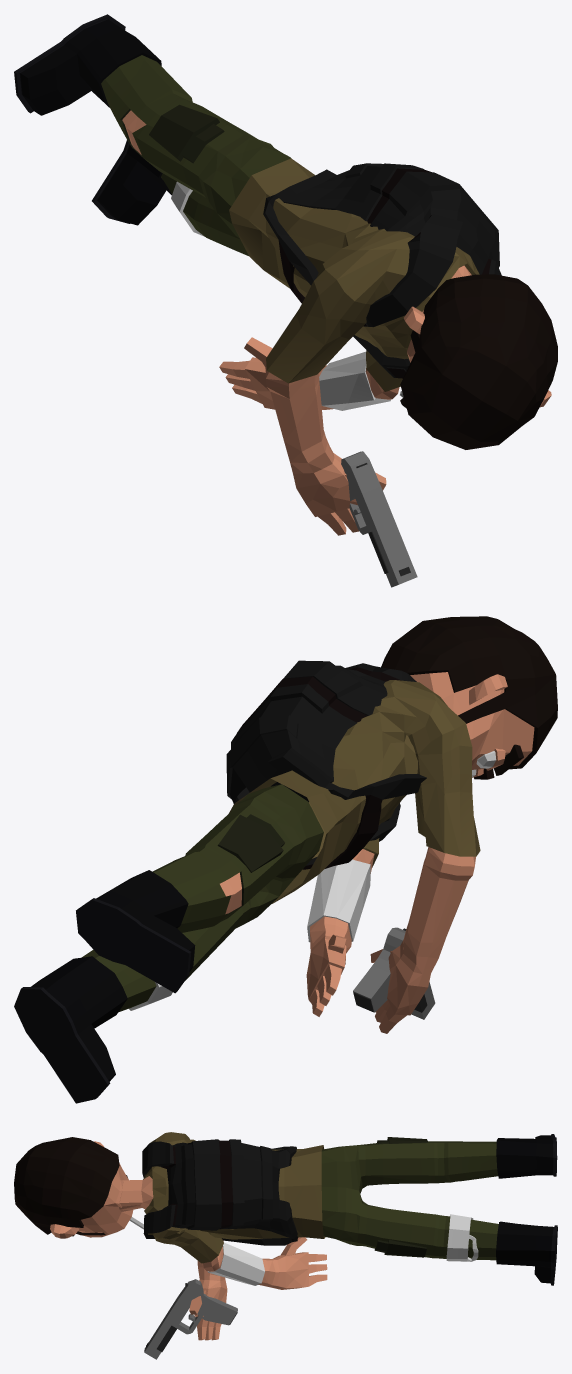
Rendered from frame_0018.obj.
3 renders of one model, top to bottom at view 1: azimuth 30°, elevation 25°; view 2: azimuth 150°, elevation 25°; view 3: azimuth 270°, elevation 25°, orthographic. The views are drawn at different scales.
Visible parts, largest first — view 1: Body, Gun; view 2: Body, Gun; view 3: Body, Gun.
Boxes of the visible parts, bbox=[...] form: Body: bbox=[14, 14, 557, 535]; Gun: bbox=[341, 451, 417, 587]; Body: bbox=[14, 616, 557, 1103]; Gun: bbox=[353, 927, 435, 1019]; Body: bbox=[14, 1132, 557, 1340]; Gun: bbox=[144, 1279, 237, 1359].
Size of the model in its own units: 1.29 by 1.99 by 4.15.
